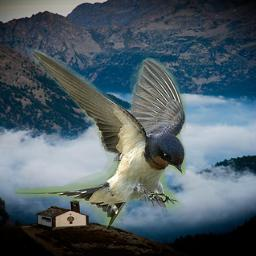Swallow: (14, 46, 186, 229)
